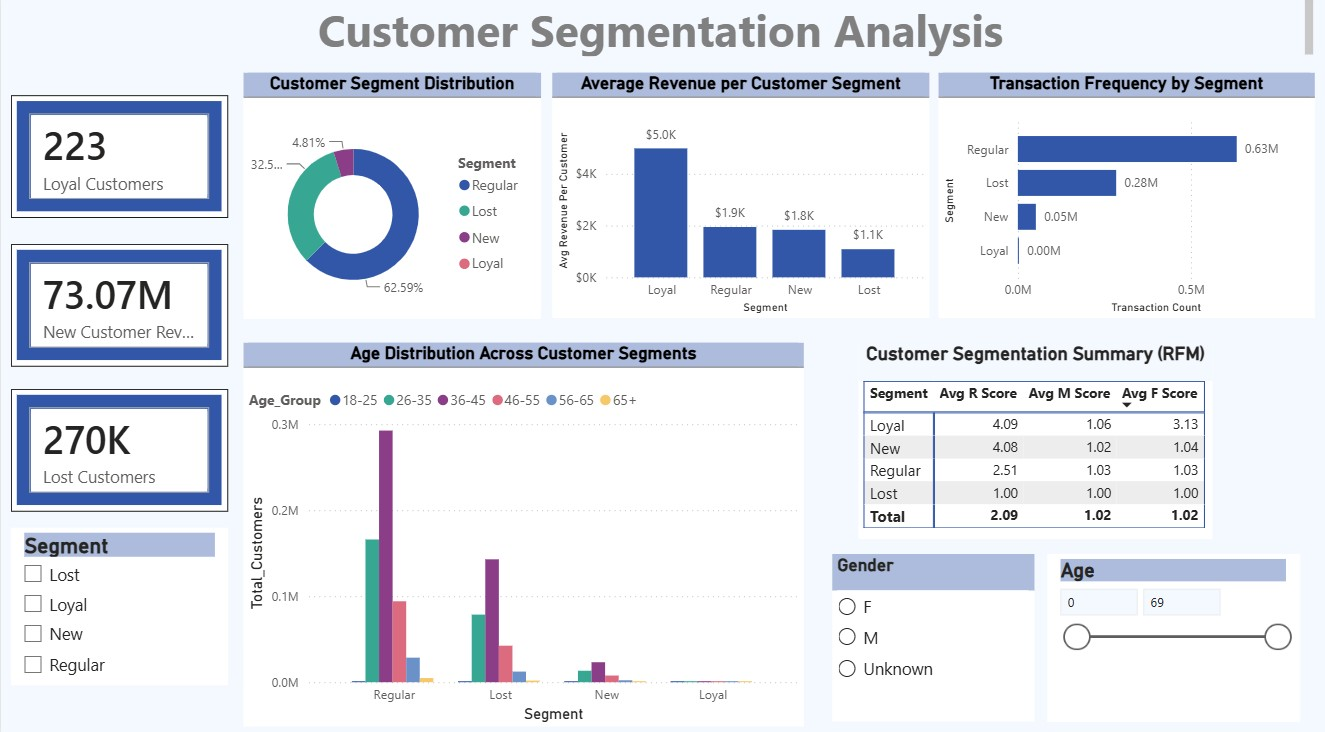

The dashboard page shown, as its layout file describes it:
{"tool":"powerbi","page":{"name":"Customer Segmentation Analysis","canvas":[1280,720],"ordinal":2},"visuals":[{"type":"textbox","box":[9.7,0,1261.9,65.1],"z":0},{"type":"cardVisual","fields":{"Data":["Customer_Summary.Loyal Customers"]},"box":[9.7,97.7,209.9,118.2],"z":1000},{"type":"cardVisual","fields":{"Data":["Customer_Summary.New Customer Revenue"]},"box":[9.7,241.3,209.9,118.2],"z":2000},{"type":"cardVisual","fields":{"Data":["Customer_Summary.Lost Customers"]},"box":[9.7,381.2,209.9,118.2],"z":3000},{"type":"clusteredColumnChart","title":"Average Revenue per Customer Segment","fields":{"Category":["Customer_Summary.Segment"],"Y":["Customer_Summary.Avg Revenue Per Customer"]},"box":[532,76,364.3,236.5],"z":4000},{"type":"donutChart","title":"Customer Segment Distribution","fields":{"Category":["Customer_Summary.Segment"],"Y":["Customer_Summary.Customers"]},"box":[234,76,287.1,237.7],"z":5000},{"type":"clusteredBarChart","title":"Revenue by Customer Segment","fields":{"Category":["Customer_Summary.Segment"],"Y":["Sum(bank_transactions.TransactionAmount (INR))"]},"box":[340.2,396.9,362,236.6],"z":6000},{"type":"clusteredBarChart","title":"Transaction Frequency by Segment","fields":{"Y":["Customer_Summary.Transaction Count"],"Category":["Customer_Summary.Segment"]},"box":[904.8,76,363.1,236.5],"z":7000},{"type":"clusteredColumnChart","title":"Age Distribution Across Customer Segments","fields":{"Category":["Customer_Summary.Segment"],"Series":["bank_transactions.Age_Group"],"Y":["bank_transactions.Total_Customers"]},"box":[234,336.6,540.5,370.4],"z":8000},{"type":"pivotTable","title":"Customer Segmentation Summary (RFM)","fields":{"Rows":["Customer_Summary.Segment"],"Values":["Customer_Summary.Avg R Score","Customer_Summary.Avg M Score","Customer_Summary.Avg F Score"]},"box":[827.6,336.6,341.4,189.4],"z":9000},{"type":"slicer","fields":{"Values":["Customer_Summary.Segment"]},"box":[9.7,515.2,209.9,152],"z":10000},{"type":"slicer","fields":{"Values":["Customer_Summary.Age"]},"box":[1009.8,540.5,243.7,161.7],"z":11000},{"type":"listSlicer","fields":{"Values":["Customer_Summary.Gender"]},"box":[802.3,540.5,195.4,161.7],"z":12000}]}

Visuals, with their boxes in screenshot pixels (x1, y1, x2, y2), scaled from the page's 1280x720 canvas onto the 1325x732 screenshot:
textbox: x1=10 y1=0 x2=1316 y2=66
cardVisual - Customer_Summary.Loyal Customers: x1=10 y1=99 x2=227 y2=219
cardVisual - Customer_Summary.New Customer Revenue: x1=10 y1=245 x2=227 y2=365
cardVisual - Customer_Summary.Lost Customers: x1=10 y1=388 x2=227 y2=508
"Average Revenue per Customer Segment" clusteredColumnChart: x1=551 y1=77 x2=928 y2=318
"Customer Segment Distribution" donutChart: x1=242 y1=77 x2=539 y2=319
"Revenue by Customer Segment" clusteredBarChart: x1=352 y1=404 x2=727 y2=644
"Transaction Frequency by Segment" clusteredBarChart: x1=937 y1=77 x2=1312 y2=318
"Age Distribution Across Customer Segments" clusteredColumnChart: x1=242 y1=342 x2=802 y2=719
"Customer Segmentation Summary (RFM)" pivotTable: x1=857 y1=342 x2=1210 y2=535
slicer - Customer_Summary.Segment: x1=10 y1=524 x2=227 y2=678
slicer - Customer_Summary.Age: x1=1045 y1=550 x2=1298 y2=714
listSlicer - Customer_Summary.Gender: x1=831 y1=550 x2=1033 y2=714
